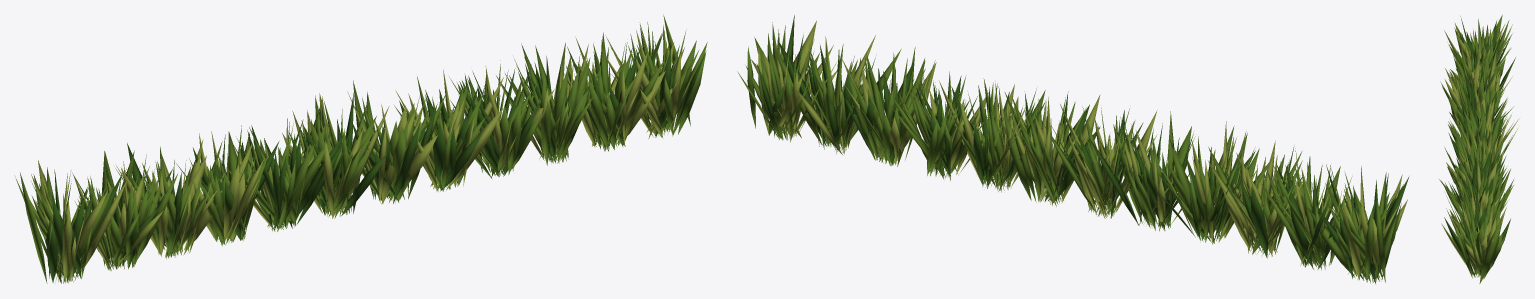
Rendered from MV_Grass_Border_Straight_2m.fbx.
3 views of the same model, side by side, from view 1: azimuth 30°, elevation 25°; view 2: azimuth 150°, elevation 25°; view 3: azimuth 270°, elevation 25° (orthographic). The views are drawn at different scales.
Parts seen in each view (by area): view 1: LOD0_Mesh, LOD1_Mesh, LOD2_Mesh; view 2: LOD0_Mesh, LOD1_Mesh, LOD2_Mesh; view 3: LOD0_Mesh, LOD2_Mesh, LOD1_Mesh.
Boxes of the visible parts, x1,y1,x2,y2 form: LOD0_Mesh: (31,22,707,283); LOD1_Mesh: (14,32,696,282); LOD2_Mesh: (20,14,690,283); LOD0_Mesh: (737,15,1409,282); LOD1_Mesh: (745,33,1407,283); LOD2_Mesh: (747,20,1401,282); LOD0_Mesh: (1440,16,1519,278); LOD2_Mesh: (1444,14,1515,283); LOD1_Mesh: (1439,20,1513,278).
Bounding box in the file's own units: 2 × 0.3 × 0.34.
